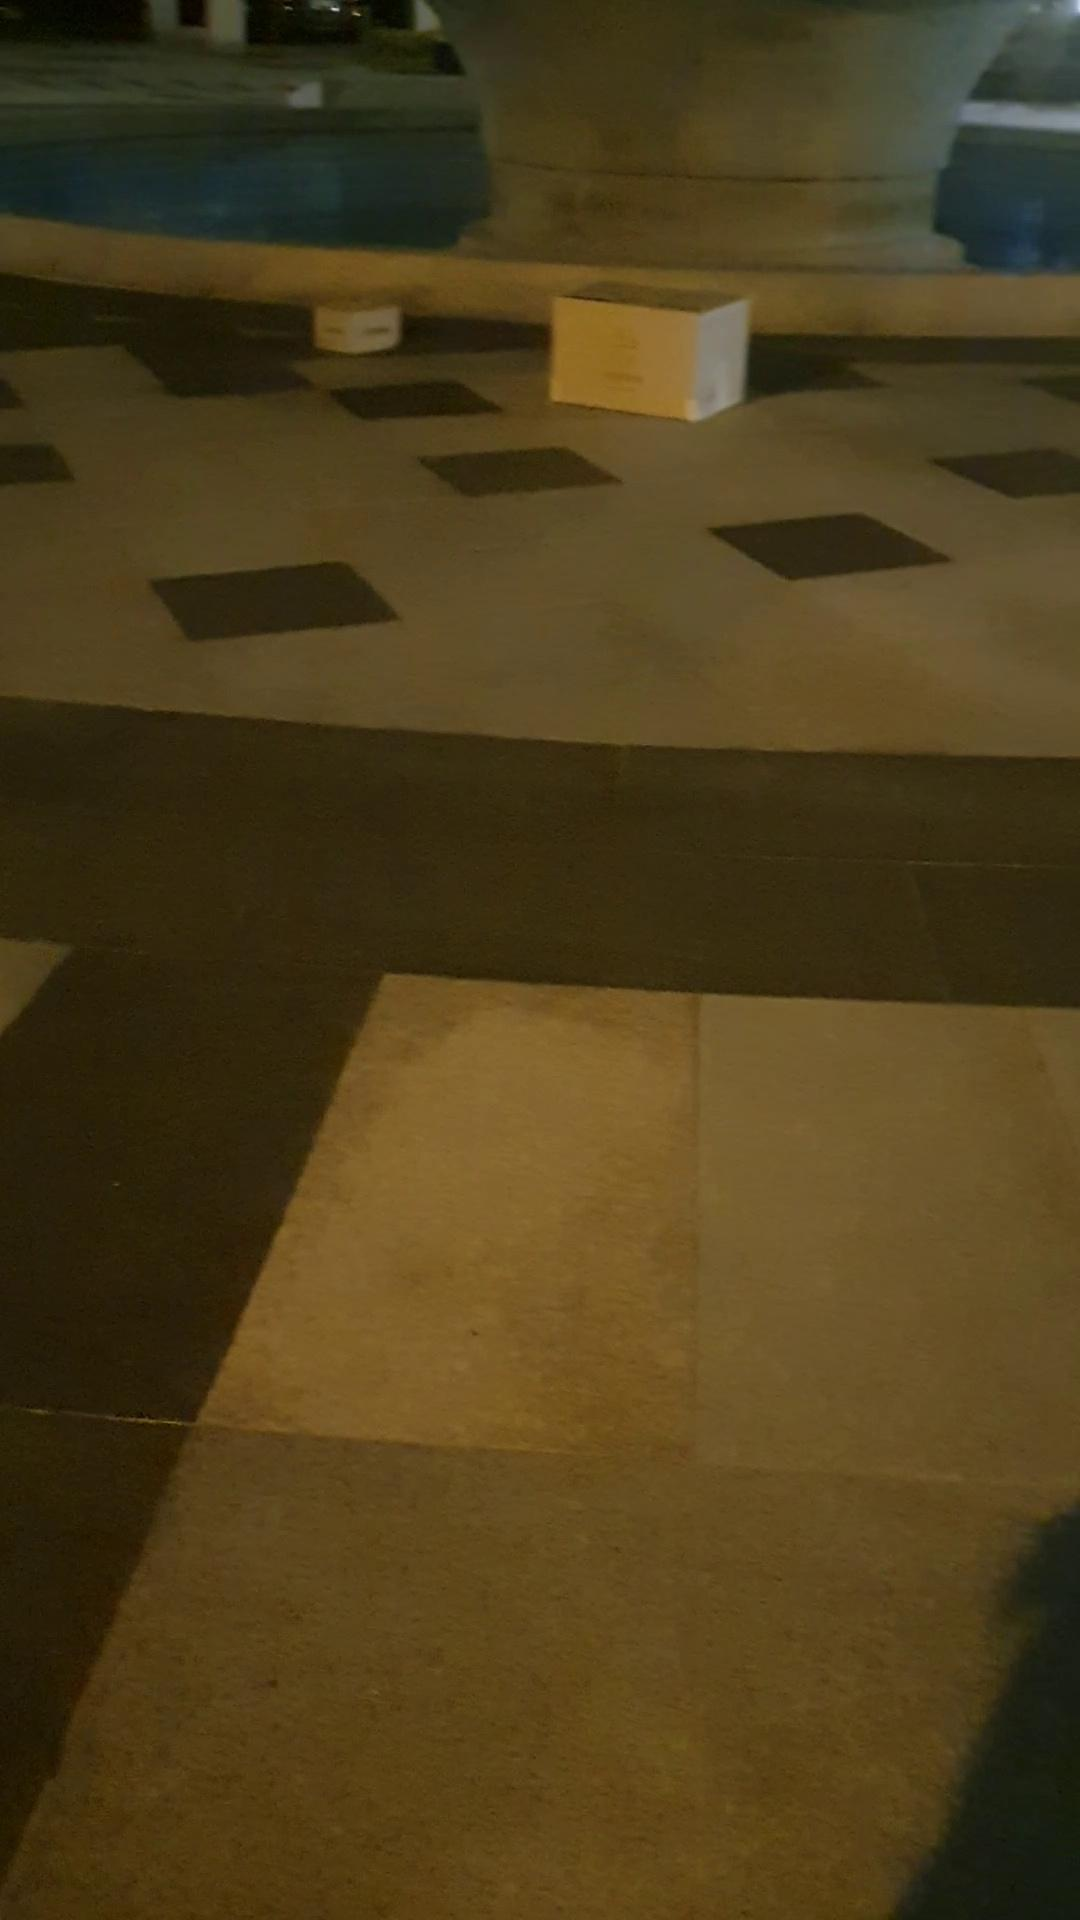Box: (546, 265, 752, 419), (293, 278, 405, 363)
